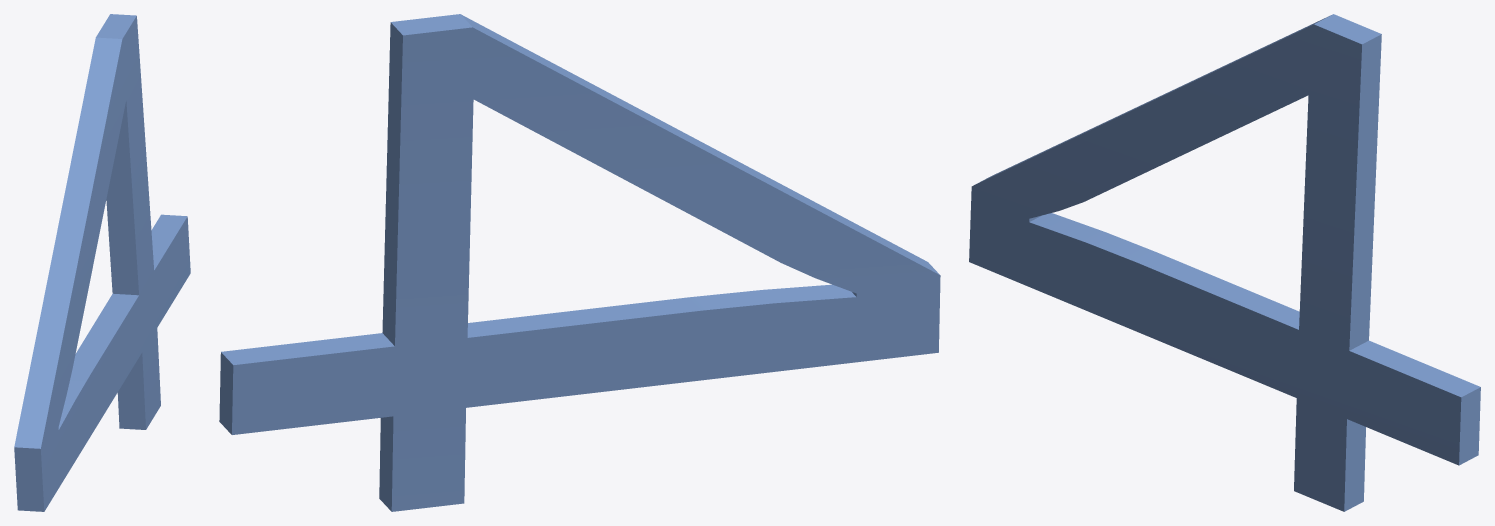
Rendered from New_Number_4.gltf.
3 renders of one model, left to right at view 1: azimuth 30°, elevation 25°; view 2: azimuth 150°, elevation 25°; view 3: azimuth 270°, elevation 25°, orthographic. The views are drawn at different scales.
Visible parts, largest first — view 1: Part 346; view 2: Part 346; view 3: Part 346.
Boxes of the visible parts, box(x1,y1,x2,y2) form: Part 346: box(14, 14, 190, 511); Part 346: box(219, 14, 940, 511); Part 346: box(969, 14, 1480, 511).
Bounding box in the file's own units: 0.00412 × 0.00408 × 0.00414.
